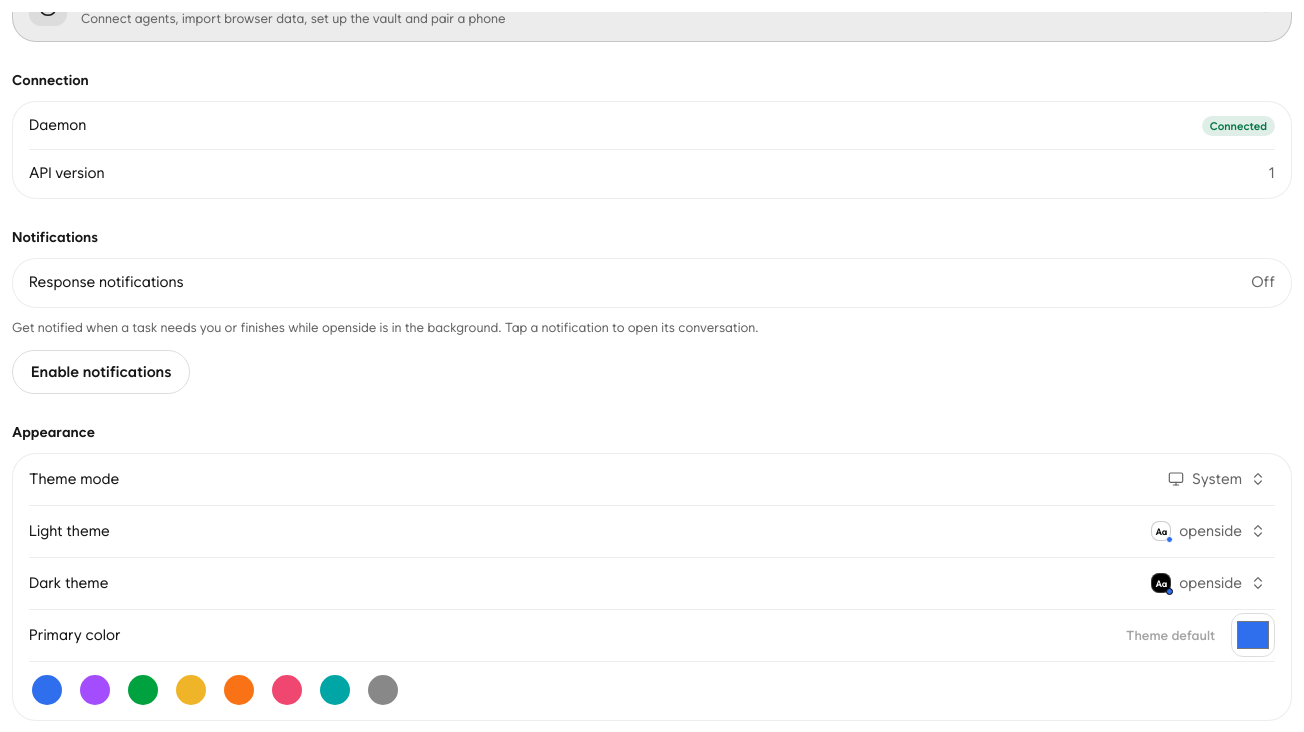
Test case: Notifications without a push service › without the extension explains how to allow notifications when they are blocked
(page scrolled)
What coordinates should you click on to do the following:
click the button "Enable notifications"
I would click on:
 (101, 372)
Its box is [12,350,190,394].
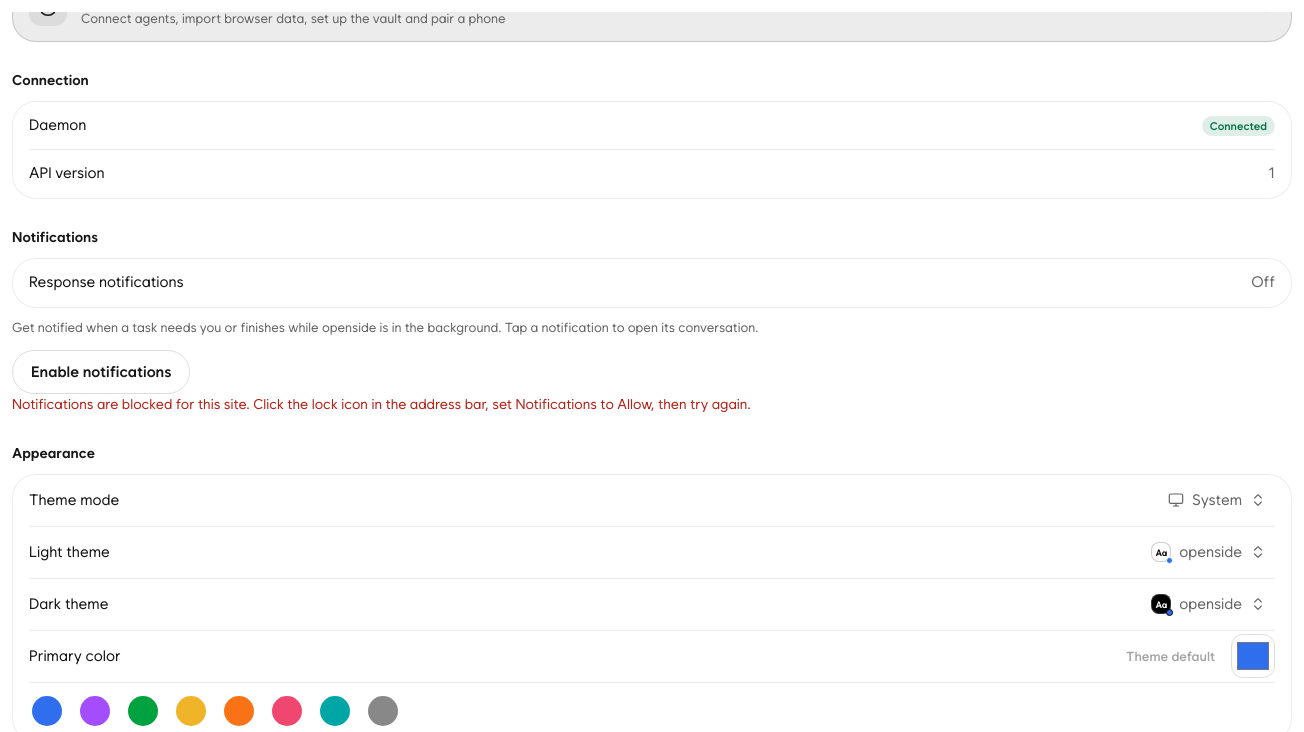
expect the message shows "Click the lock icon in the address bar, set Notifications to Allow, then try again.": met, box [12,396,751,412]
